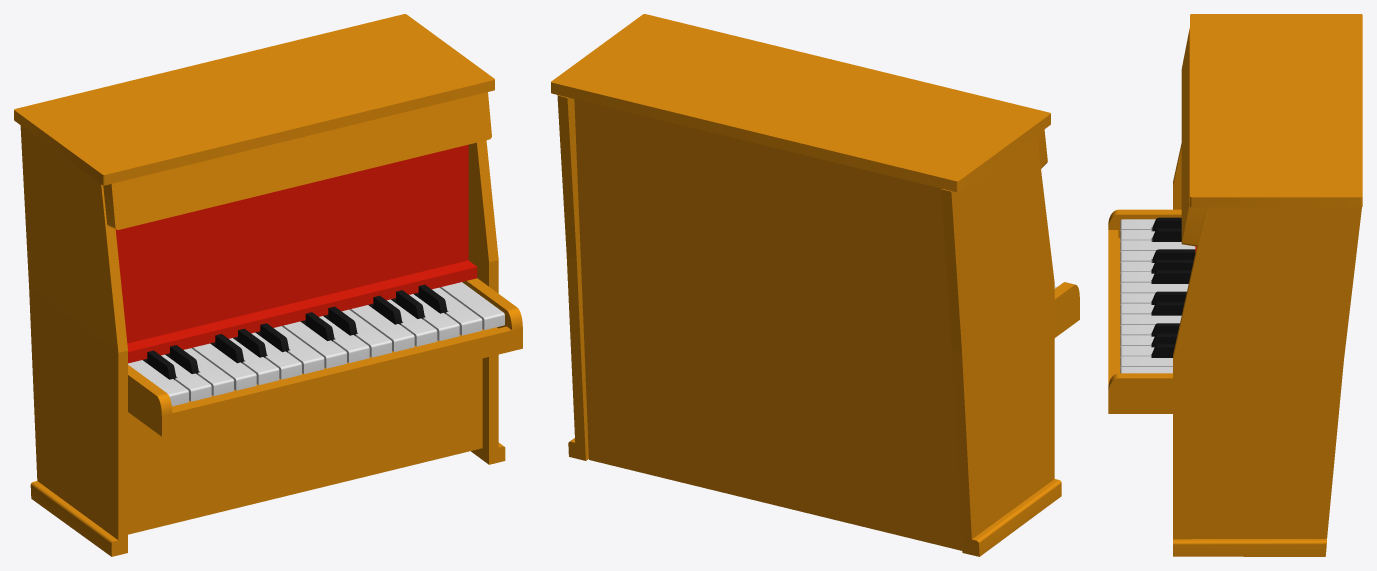
The model's file is toy-piano.glb.
3 views of the same model, side by side, from view 1: azimuth 30°, elevation 25°; view 2: azimuth 150°, elevation 25°; view 3: azimuth 270°, elevation 25° (orthographic). The views are drawn at different scales.
Visible parts, largest first — view 1: FrontLid, Side, Top, FrontBottom, FrontTop, KeysPad, Key25, Key18, Key6, Key13, Key1, Key24 (+9 smaller); view 2: Back, Top, Side, KeysPad; view 3: Side, Top, KeysPad, FrontTop, Key12, Key5, Key17, Key24, Key11, Key7, Key9, Key16 (+14 smaller).
Part boxes in pixels (x1=…): FrontLid: x1=115, y1=144, x2=477, y2=363; Side: x1=20, y1=125, x2=505, y2=556; Top: x1=14, y1=14, x2=494, y2=185; FrontBottom: x1=128, y1=358, x2=482, y2=534; FrontTop: x1=103, y1=92, x2=491, y2=229; KeysPad: x1=128, y1=278, x2=522, y2=436; Key25: x1=439, y1=282, x2=504, y2=330; Key18: x1=349, y1=305, x2=414, y2=352; Key6: x1=191, y1=343, x2=256, y2=390; Key13: x1=282, y1=321, x2=346, y2=368; Key1: x1=128, y1=360, x2=188, y2=406; Key24: x1=432, y1=287, x2=482, y2=335; Back: x1=574, y1=99, x2=962, y2=550; Top: x1=551, y1=14, x2=1050, y2=192; Side: x1=557, y1=95, x2=1061, y2=556; KeysPad: x1=1054, y1=282, x2=1079, y2=337; Side: x1=1173, y1=143, x2=1361, y2=556; Top: x1=1190, y1=14, x2=1362, y2=207; KeysPad: x1=1108, y1=209, x2=1181, y2=413; FrontTop: x1=1181, y1=28, x2=1206, y2=246; Key12: x1=1120, y1=282, x2=1188, y2=293; Key5: x1=1120, y1=240, x2=1195, y2=251; Key17: x1=1120, y1=314, x2=1181, y2=325; Key24: x1=1120, y1=356, x2=1172, y2=367; Key11: x1=1151, y1=270, x2=1191, y2=283; Key7: x1=1152, y1=249, x2=1195, y2=262; Key9: x1=1151, y1=260, x2=1193, y2=273; Key16: x1=1151, y1=302, x2=1184, y2=315.
Size of what is drawn, in the model's own units: 5.11 by 4.63 by 2.97.
